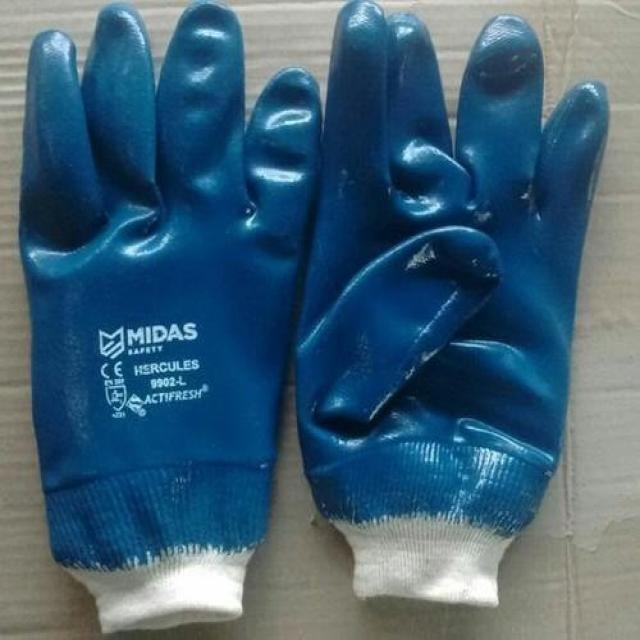gloves: (293, 2, 615, 610), (19, 3, 320, 636)
